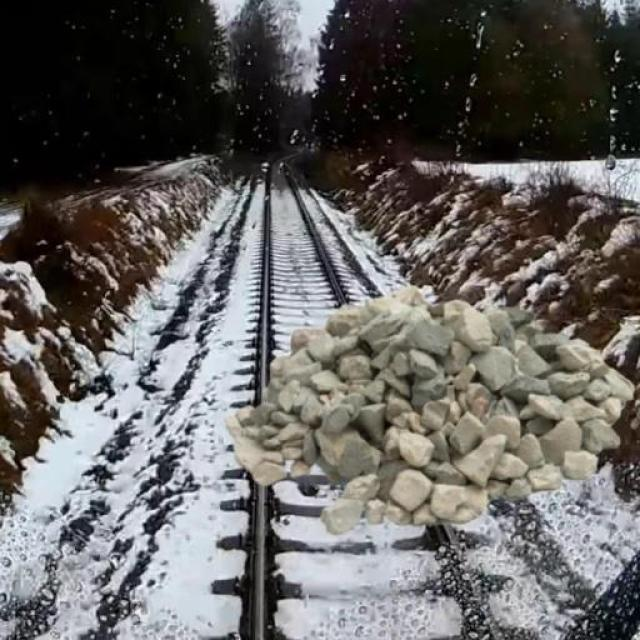Stone: (228, 287, 640, 525)
